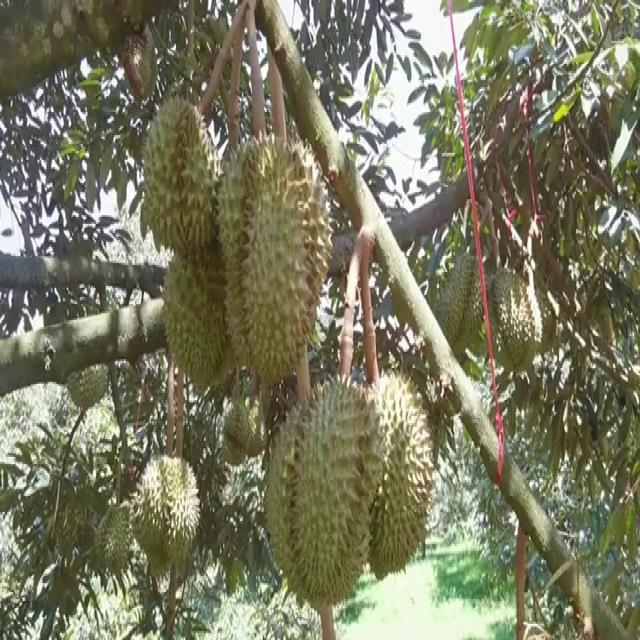durian: (215, 126, 337, 387), (285, 374, 382, 610), (354, 364, 440, 588), (160, 203, 250, 405), (262, 391, 344, 594), (137, 88, 225, 263), (128, 448, 204, 576), (486, 252, 544, 385), (428, 239, 488, 364), (89, 487, 140, 574), (61, 342, 112, 414), (519, 270, 561, 356), (244, 396, 270, 462), (221, 396, 252, 451), (218, 428, 248, 467)
